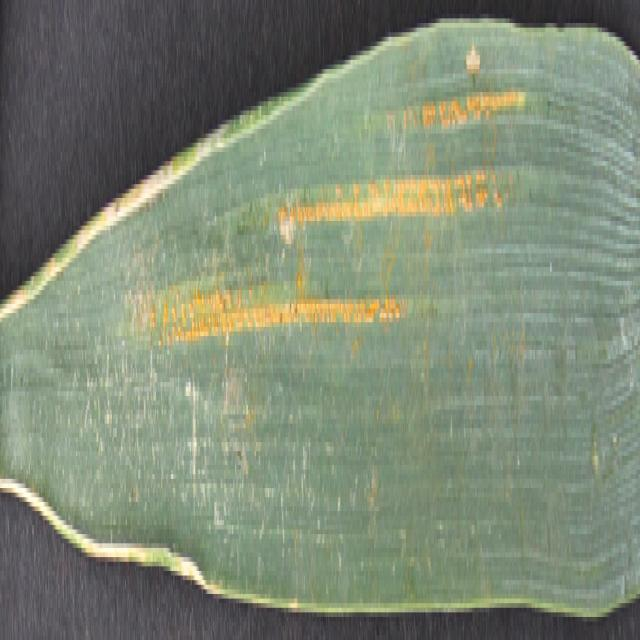leaf rust: (139, 46, 533, 382)
